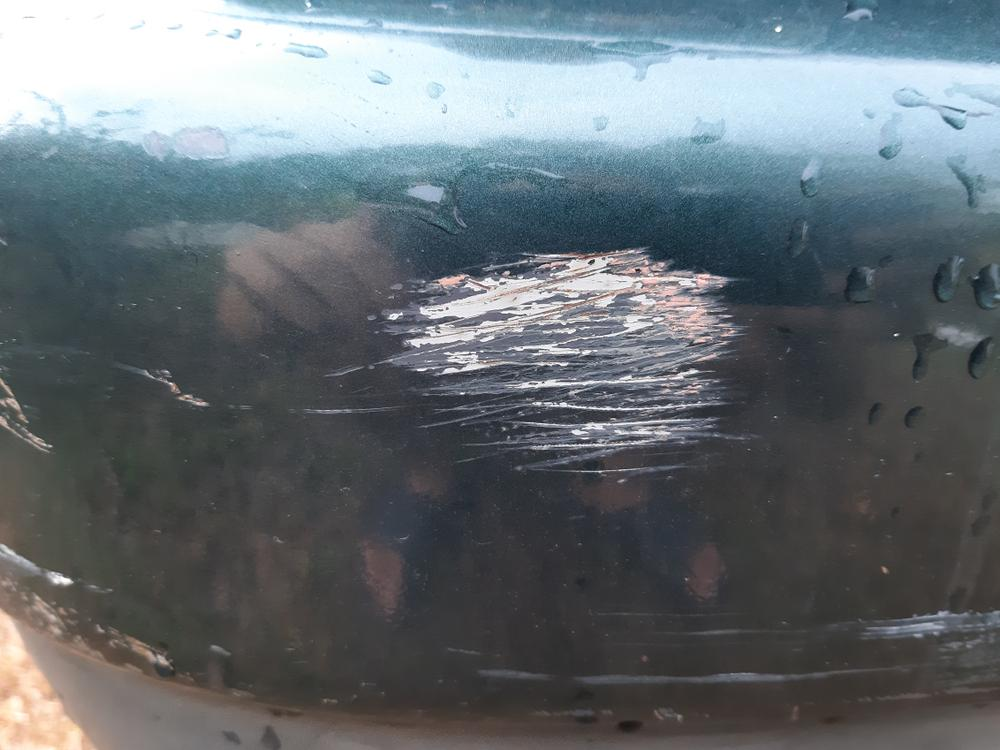scratch: (0, 239, 771, 483), (478, 607, 1000, 719)
